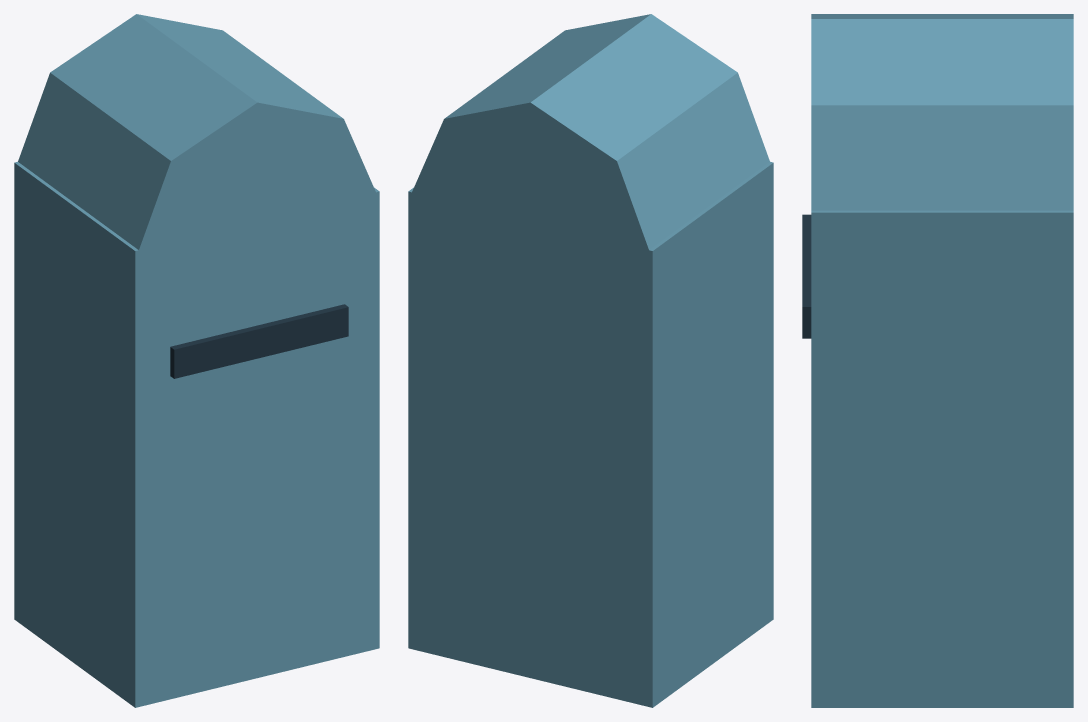
The model's file is mailbox.obj.
The picture shows the model from 3 angles, left to right: view 1: azimuth 30°, elevation 25°; view 2: azimuth 150°, elevation 25°; view 3: azimuth 270°, elevation 25°; orthographic projection. The views are drawn at different scales.
Visible parts, largest first — view 1: mailbox; view 2: mailbox; view 3: mailbox.
Boxes of the visible parts, x1,y1,x2,y2 form: mailbox: (14,14,379,707); mailbox: (408,14,773,707); mailbox: (802,14,1073,707).
Bounding box in the file's own units: 0.7 × 1.58 × 0.62.
